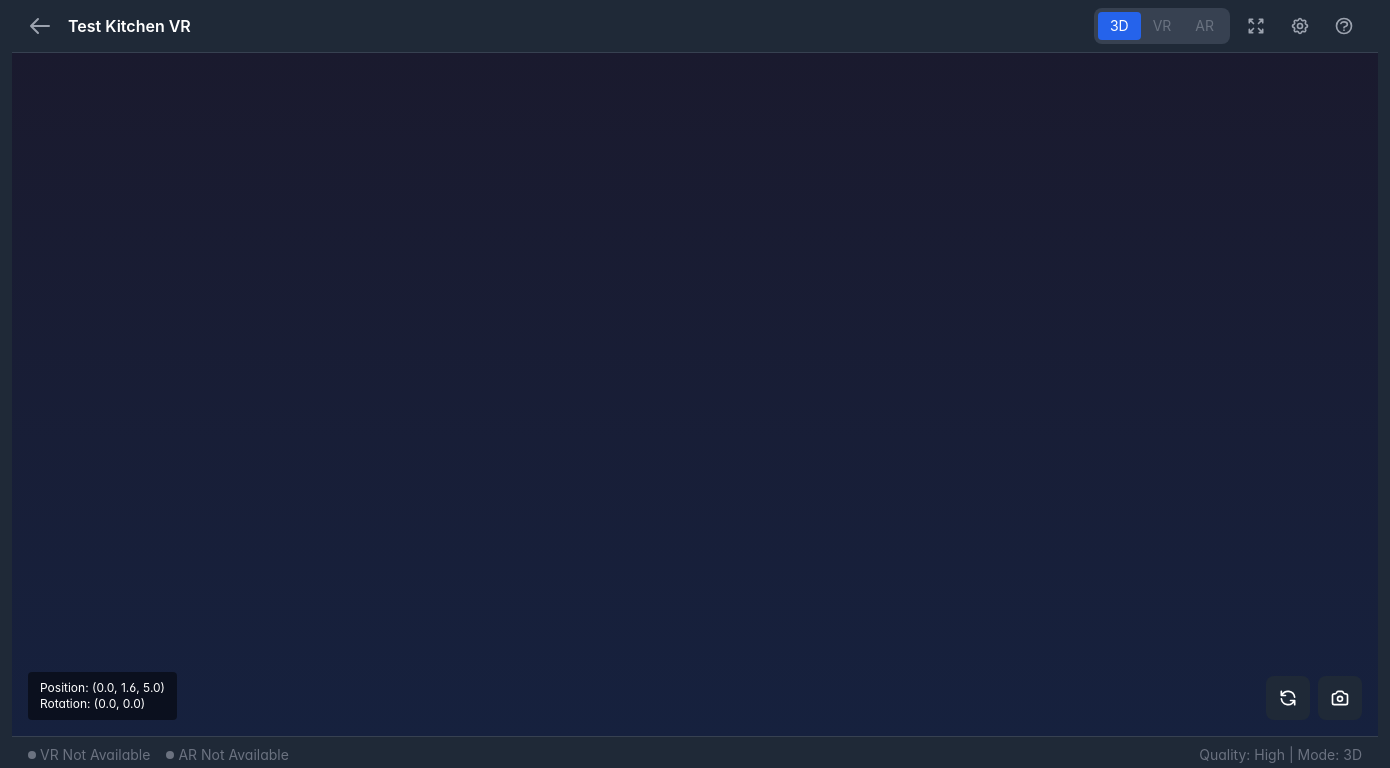
it: VRViewer › Settings Panel › should close settings panel when button is clicked again
Expected: the heading "Test Kitchen VR" is shown, left=68, top=14, right=191, bottom=38
Click the button titled "Settings" at point(1300, 26), box left=1282, top=8, right=1318, bottom=44
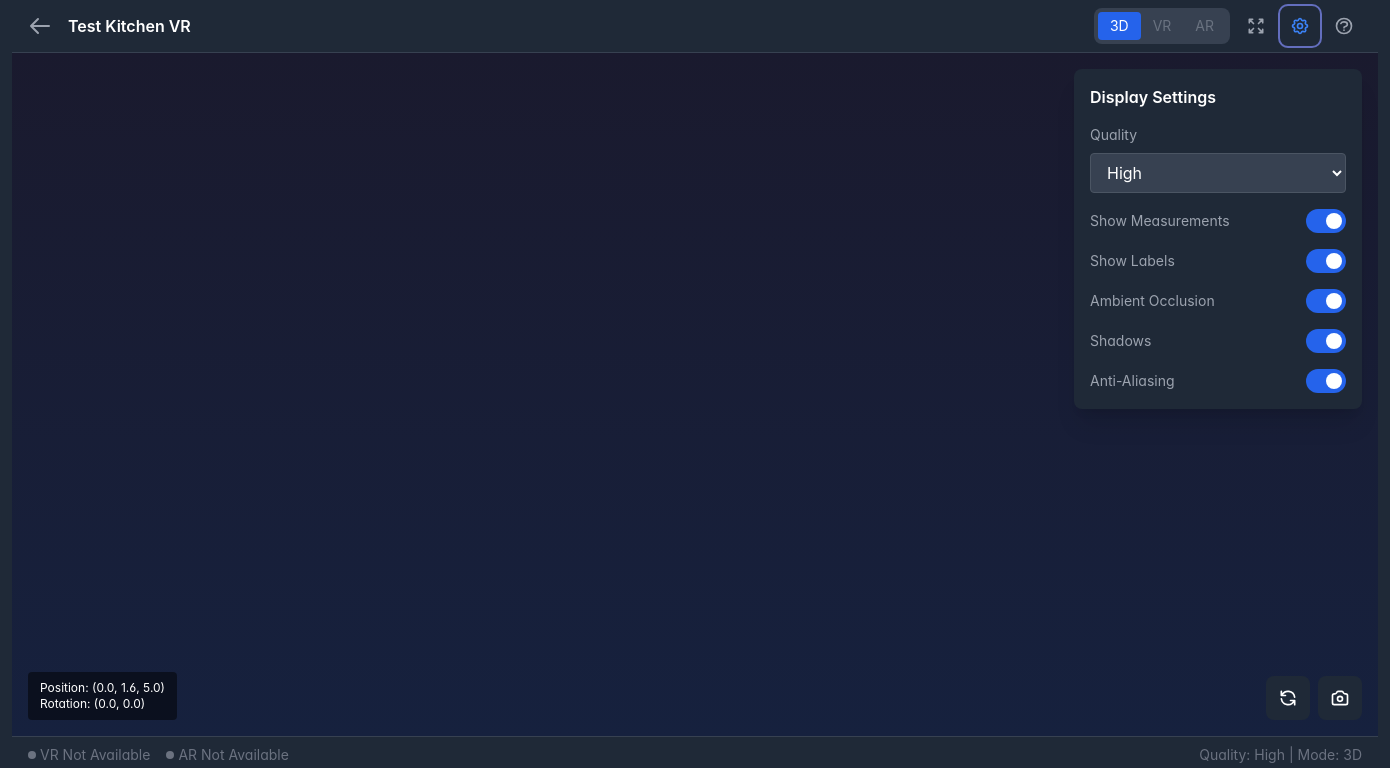
Expected: the heading "Display Settings" is shown, left=1090, top=87, right=1216, bottom=107
Click the button titled "Settings" at point(1300, 26), box left=1282, top=8, right=1318, bottom=44
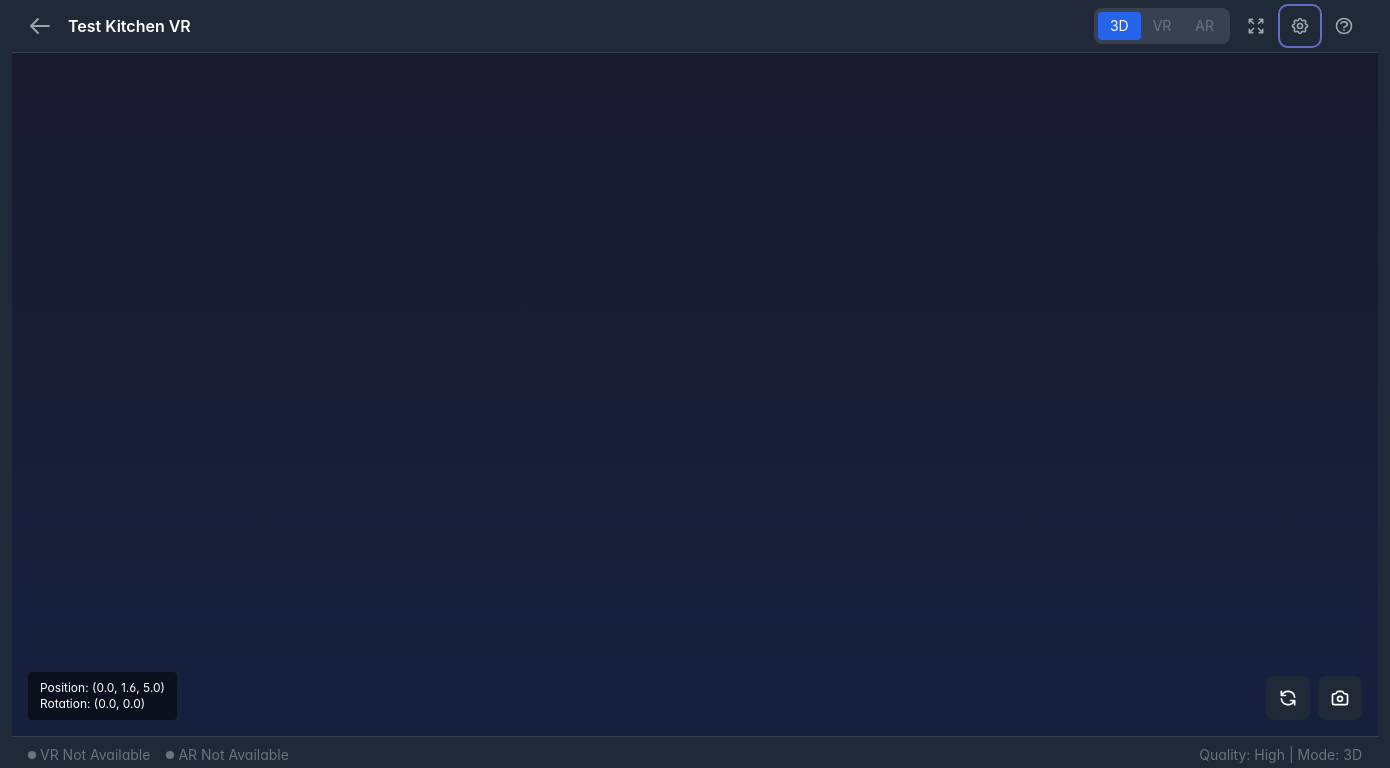
Expected: the heading "Display Settings" is gone
